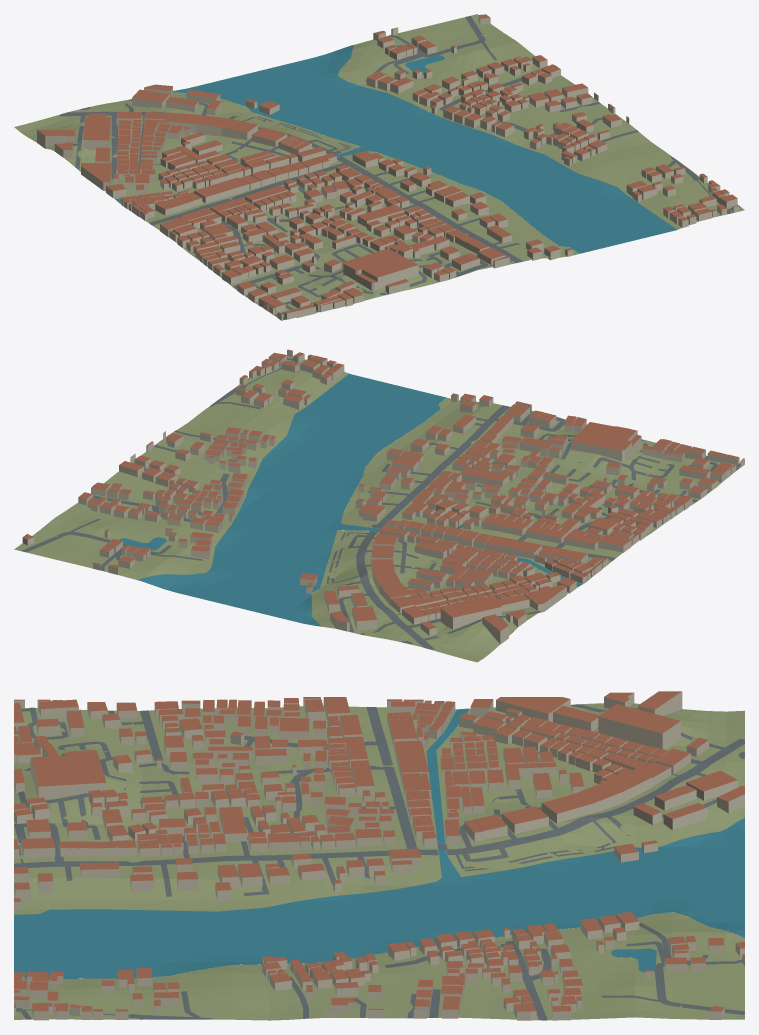
The model's file is demo.glb.
The picture shows the model from 3 angles, top to bottom: view 1: azimuth 30°, elevation 25°; view 2: azimuth 150°, elevation 25°; view 3: azimuth 270°, elevation 25°; orthographic projection. The views are drawn at different scales.
Visible parts, largest first — view 1: Terrain_Copernicus_DSM, water_relation_14038952, buildings_way_724389338_0, buildings_way_801328476_0, roads_way_737820164, buildings_way_751017337_0, buildings_way_801328278_0, buildings_way_751017339_0, buildings_way_751017342_0, buildings_way_230406909_0, buildings_way_755391061_0, water_relation_14038951; view 2: Terrain_Copernicus_DSM, water_relation_14038952, buildings_way_724389338_0, buildings_way_751017337_0, roads_way_737820164, roads_way_46908292, buildings_way_801328476_0, buildings_way_751017339_0, water_relation_14038951, buildings_way_755391061_0, buildings_way_801328249_0, buildings_way_230406909_0; view 3: Terrain_Copernicus_DSM, water_relation_14038952, buildings_way_724389338_0, buildings_way_801328476_0, buildings_way_751017337_0, roads_way_46908292, roads_way_737820164, water_way_694529550, water_relation_14038951, buildings_way_751017339_0, roads_way_722877881, buildings_way_230406909_0 (+19 smaller).
Boxes of the visible parts, box(x1,y1,x2,y2) form: Terrain_Copernicus_DSM: box(14, 14, 744, 320); water_relation_14038952: box(227, 57, 676, 253); buildings_way_724389338_0: box(343, 248, 418, 289); buildings_way_801328476_0: box(166, 112, 258, 140); roads_way_737820164: box(346, 162, 522, 262); buildings_way_751017337_0: box(83, 116, 110, 150); buildings_way_801328278_0: box(195, 178, 249, 202); buildings_way_751017339_0: box(81, 163, 111, 190); buildings_way_751017342_0: box(37, 129, 75, 149); buildings_way_230406909_0: box(132, 89, 169, 108); buildings_way_755391061_0: box(357, 204, 404, 227); water_relation_14038951: box(173, 77, 231, 100); Terrain_Copernicus_DSM: box(14, 354, 740, 662); water_relation_14038952: box(166, 373, 446, 612); buildings_way_724389338_0: box(571, 422, 636, 461); buildings_way_751017337_0: box(440, 597, 501, 629); roads_way_737820164: box(382, 405, 509, 521); roads_way_46908292: box(356, 530, 434, 649); buildings_way_801328476_0: box(370, 559, 410, 604); buildings_way_751017339_0: box(523, 584, 566, 612); water_relation_14038951: box(260, 601, 320, 626); buildings_way_755391061_0: box(460, 467, 509, 487); buildings_way_801328249_0: box(481, 517, 527, 536); buildings_way_230406909_0: box(352, 606, 377, 630); Terrain_Copernicus_DSM: box(14, 703, 744, 1020); water_relation_14038952: box(14, 840, 744, 979); buildings_way_724389338_0: box(31, 750, 106, 799); buildings_way_801328476_0: box(541, 770, 652, 823); buildings_way_751017337_0: box(598, 704, 680, 749); roads_way_46908292: box(446, 738, 744, 854); roads_way_737820164: box(14, 850, 389, 867); water_way_694529550: box(426, 708, 468, 881); water_relation_14038951: box(681, 818, 744, 861); buildings_way_751017339_0: box(496, 697, 570, 721); roads_way_722877881: box(379, 750, 417, 848); buildings_way_230406909_0: box(686, 770, 737, 800).
Size of the model in its own units: 500 by 20.34 by 500.
